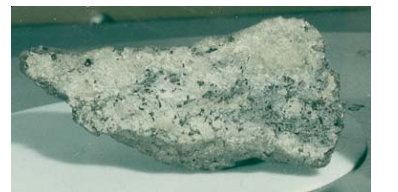Basalt: (21, 10, 350, 177)
